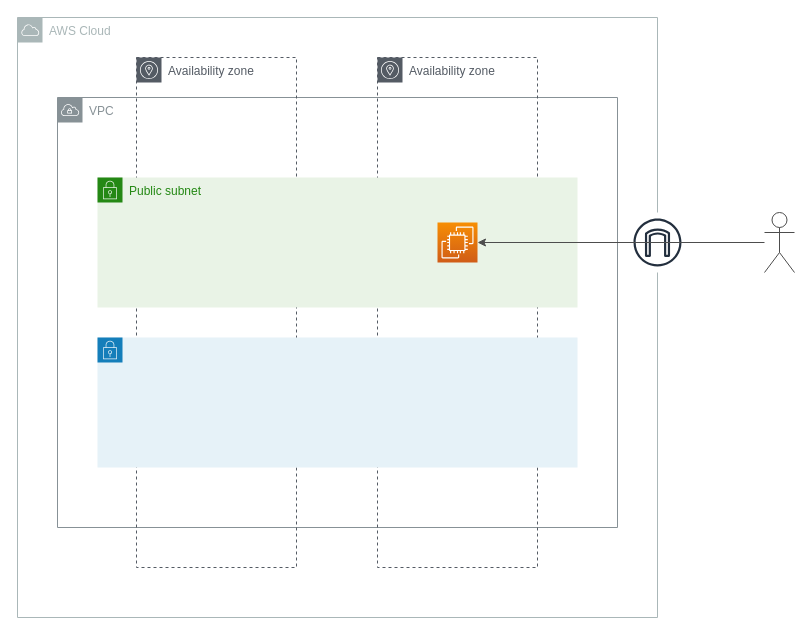
The diagram is 812 pixels wide and 635 high, and some of its shapes have lost their labels. Here are the shapes that lost their labels. From the top down, the centre of each, then its label:
the point at 657,242: Internet gateway
the point at 779,242: Actor
the point at 337,402: Private subnet
